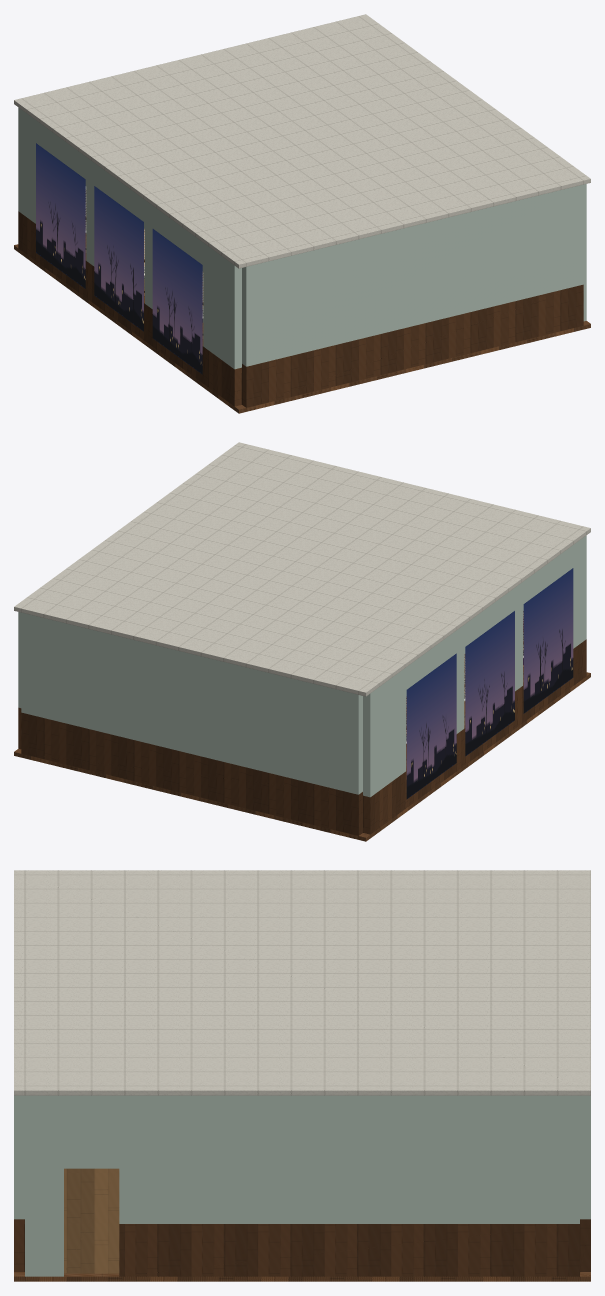
File: classroom.glb
3 renders of one model, top to bottom at view 1: azimuth 30°, elevation 25°; view 2: azimuth 150°, elevation 25°; view 3: azimuth 270°, elevation 25°, orthographic. The views are drawn at different scales.
Parts seen in each view (by area): view 1: Room_Shell, Windows; view 2: Room_Shell, Windows; view 3: Room_Shell, Right_Wall.
Part boxes in pixels (x1,y1,x2,y2): Room_Shell: (14,14,590,413); Windows: (36,143,203,374); Room_Shell: (14,442,590,841); Windows: (406,568,573,799); Room_Shell: (14,870,590,1281); Right_Wall: (64,1168,119,1273).
Size of the model in its own units: 9.65 by 3.8 by 10.4.
45 materials, 16 textured.
